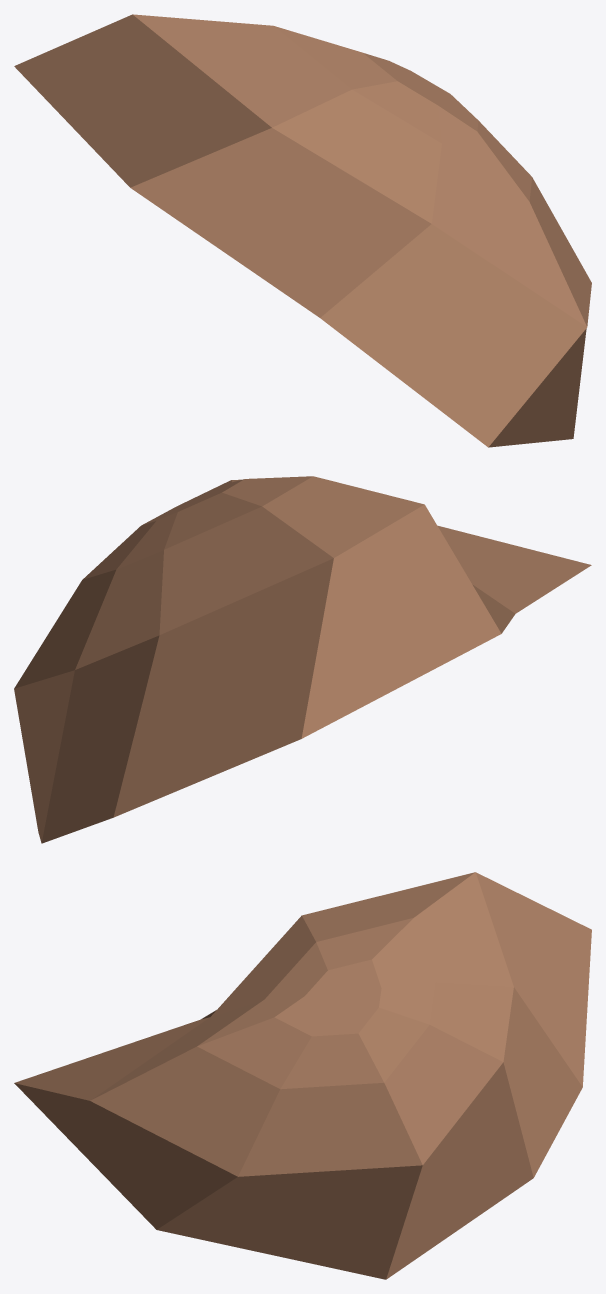
Rendered from rock-011.glb.
The picture shows the model from 3 angles, top to bottom: view 1: azimuth 30°, elevation 25°; view 2: azimuth 150°, elevation 25°; view 3: azimuth 270°, elevation 25°; orthographic projection. The views are drawn at different scales.
Visible parts, largest first — view 1: stone 10_10; view 2: stone 10_10; view 3: stone 10_10.
Boxes of the visible parts, <box> form: stone 10_10: <box>14,14,591,447</box>; stone 10_10: <box>14,476,591,843</box>; stone 10_10: <box>14,872,591,1279</box>.
Bounding box in the file's own units: 0.3717 × 0.3263 × 0.5992.
